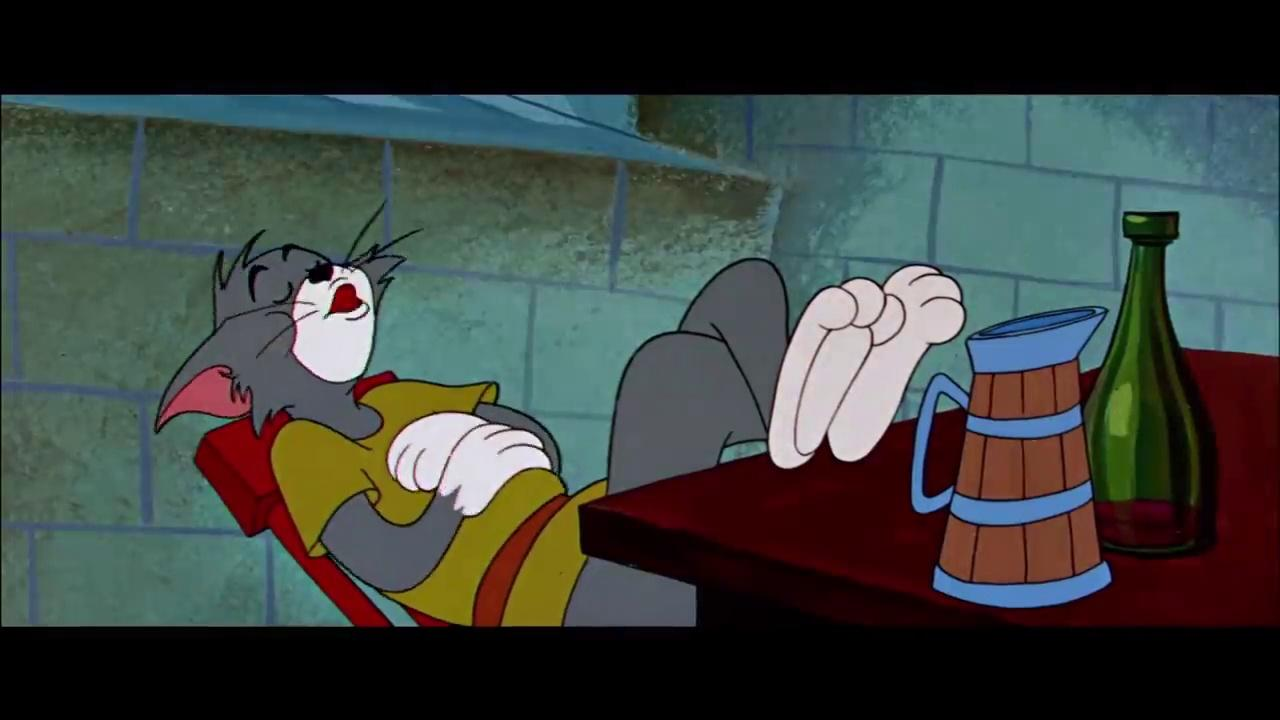Tom: (153, 223, 967, 628)
